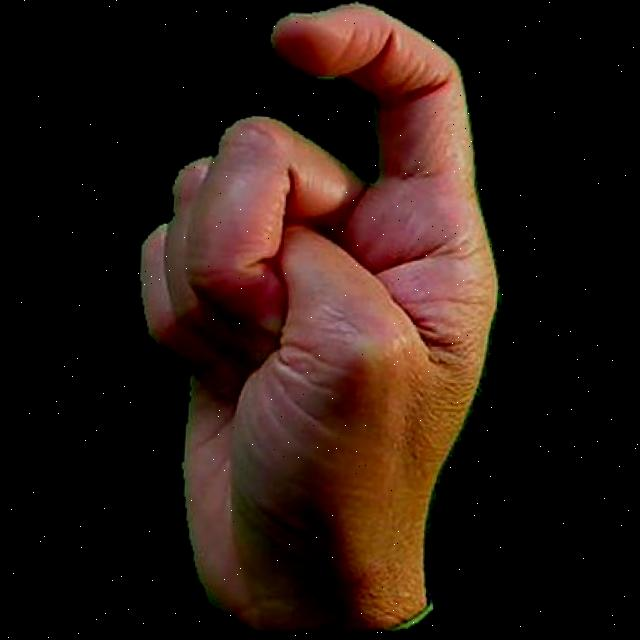x: (108, 0, 526, 640)
